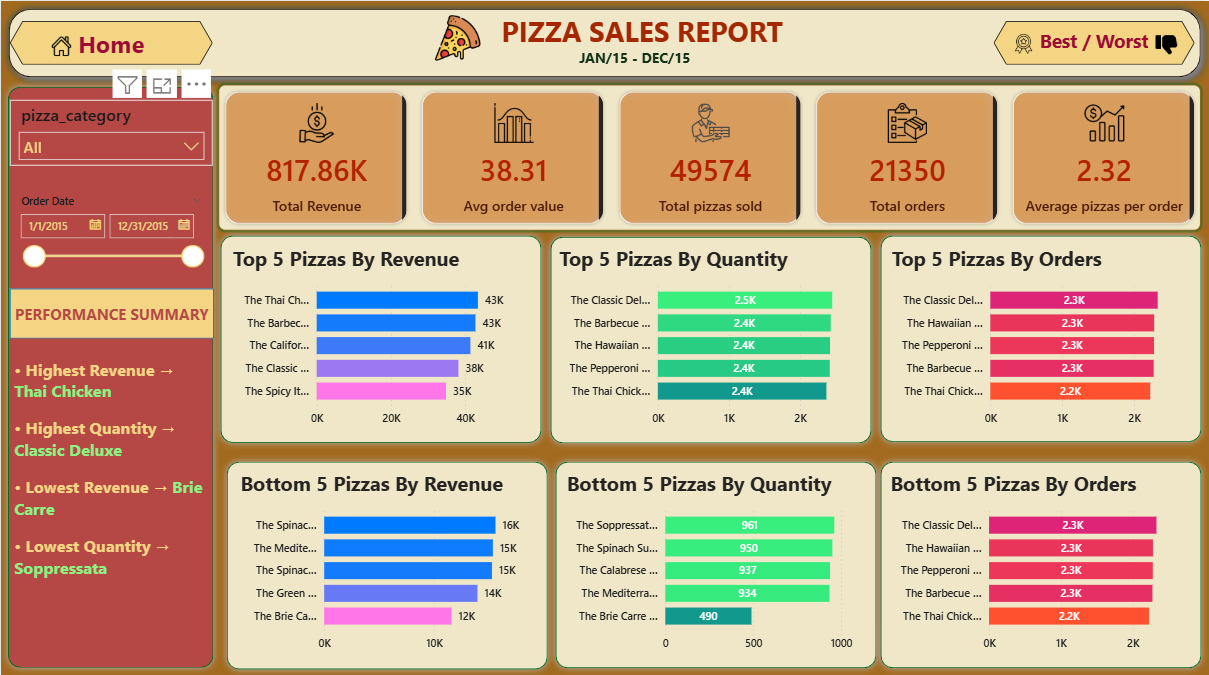

This screenshot's page, from the dashboard's own definition file:
{"tool":"powerbi","page":{"name":"Best / Worst","canvas":[1380,771],"ordinal":1},"visuals":[{"type":"cardVisual","fields":{"Data":["pizza_sales pizza_sales.Total Revenue","pizza_sales pizza_sales.Avg order value","pizza_sales pizza_sales.Total pizzas sold","pizza_sales pizza_sales.Total orders","pizza_sales pizza_sales.Average pizzas per order"]},"box":[241.3,88,1138.7,181.3],"z":0},{"type":"shape","box":[0,0,1380,96],"z":1000},{"type":"image","box":[487.1,11.4,70,61.4],"z":2000},{"type":"textbox","box":[655.7,48.6,154.3,38.6],"z":3000},{"type":"textbox","box":[557.2,7.7,351.3,68.2],"z":4000},{"type":"shape","box":[242.7,260,382.7,253],"z":5000},{"type":"shape","box":[0,90.7,250.7,680],"z":6000},{"type":"slicer","fields":{"Values":["pizza_sales pizza_sales.order_date"]},"box":[9.3,216,230.7,105.3],"z":7000},{"type":"slicer","fields":{"Values":["pizza_sales pizza_sales.pizza_category"]},"box":[9.3,113.3,232,74.7],"z":8000},{"type":"pageNavigator","box":[1134.7,22.7,230.7,50.7],"z":9000},{"type":"pageNavigator","box":[10.7,22.7,232,50.7],"z":10000},{"type":"image","box":[44,36,49.3,32],"z":11000},{"type":"image","box":[1134.7,33.3,69.3,32],"z":12000},{"type":"image","box":[1312,33.3,41.3,34.7],"z":13000},{"type":"shape","box":[250.7,518.7,382.7,253.3],"z":14000},{"type":"shape","box":[625.3,518.7,382.7,252],"z":15000},{"type":"shape","box":[620,261.3,382.7,252],"z":16000},{"type":"shape","box":[997.3,518.7,382.7,252],"z":17000},{"type":"shape","box":[997.3,260,382.7,252],"z":18000},{"type":"barChart","title":"Top 5 Pizzas By Revenue","fields":{"Y":["pizza_sales pizza_sales.Total Revenue"],"Category":["pizza_sales pizza_sales.pizza_name"]},"box":[260,278.7,350.7,217.3],"z":19000},{"type":"barChart","title":"Top 5 Pizzas By Quantity","fields":{"Category":["pizza_sales pizza_sales.pizza_name"],"Y":["pizza_sales pizza_sales.Total pizzas sold"]},"box":[633.3,278.7,353.3,217.3],"z":20000},{"type":"barChart","title":"Top 5 Pizzas By Orders","fields":{"Category":["pizza_sales pizza_sales.pizza_name"],"Y":["pizza_sales pizza_sales.Total orders"]},"box":[1013.3,278.7,353.3,217.3],"z":21000},{"type":"barChart","title":"Bottom 5 Pizzas By Revenue","fields":{"Y":["pizza_sales pizza_sales.Total Revenue"],"Category":["pizza_sales pizza_sales.pizza_name"]},"box":[268,536,350.7,217.3],"z":22000},{"type":"barChart","title":"Bottom 5 Pizzas By Quantity","fields":{"Category":["pizza_sales pizza_sales.pizza_name"],"Y":["pizza_sales pizza_sales.Total pizzas sold"]},"box":[641.3,536,353.3,217.3],"z":23000},{"type":"barChart","title":"Bottom 5 Pizzas By Orders","fields":{"Category":["pizza_sales pizza_sales.pizza_name"],"Y":["pizza_sales pizza_sales.Total orders"]},"box":[1012,536,353.3,217.3],"z":24000},{"type":"shape","box":[9.3,328,233.3,57.3],"z":25000},{"type":"textbox","box":[9.3,385.3,230.7,292],"z":26000}]}

Visuals, with their boxes in screenshot pixels (x1, y1, x2, y2), scaled from the page's 1380x771 canvas onto the 1209x675 screenshot:
cardVisual - pizza_sales pizza_sales.Total Revenue x pizza_sales pizza_sales.Avg order value: [211, 77, 1208, 236]
shape: [0, 0, 1208, 84]
image: [427, 10, 488, 64]
textbox: [574, 43, 710, 76]
textbox: [488, 7, 796, 66]
shape: [213, 228, 548, 449]
shape: [0, 79, 220, 674]
slicer - pizza_sales pizza_sales.order_date: [8, 189, 210, 281]
slicer - pizza_sales pizza_sales.pizza_category: [8, 99, 211, 165]
pageNavigator: [994, 20, 1196, 64]
pageNavigator: [9, 20, 213, 64]
image: [39, 32, 82, 60]
image: [994, 29, 1055, 57]
image: [1149, 29, 1186, 60]
shape: [220, 454, 555, 674]
shape: [548, 454, 883, 674]
shape: [543, 229, 878, 449]
shape: [874, 454, 1208, 674]
shape: [874, 228, 1208, 448]
"Top 5 Pizzas By Revenue" barChart: [228, 244, 535, 434]
"Top 5 Pizzas By Quantity" barChart: [555, 244, 864, 434]
"Top 5 Pizzas By Orders" barChart: [888, 244, 1197, 434]
"Bottom 5 Pizzas By Revenue" barChart: [235, 469, 542, 660]
"Bottom 5 Pizzas By Quantity" barChart: [562, 469, 871, 660]
"Bottom 5 Pizzas By Orders" barChart: [887, 469, 1196, 660]
shape: [8, 287, 213, 337]
textbox: [8, 337, 210, 593]
